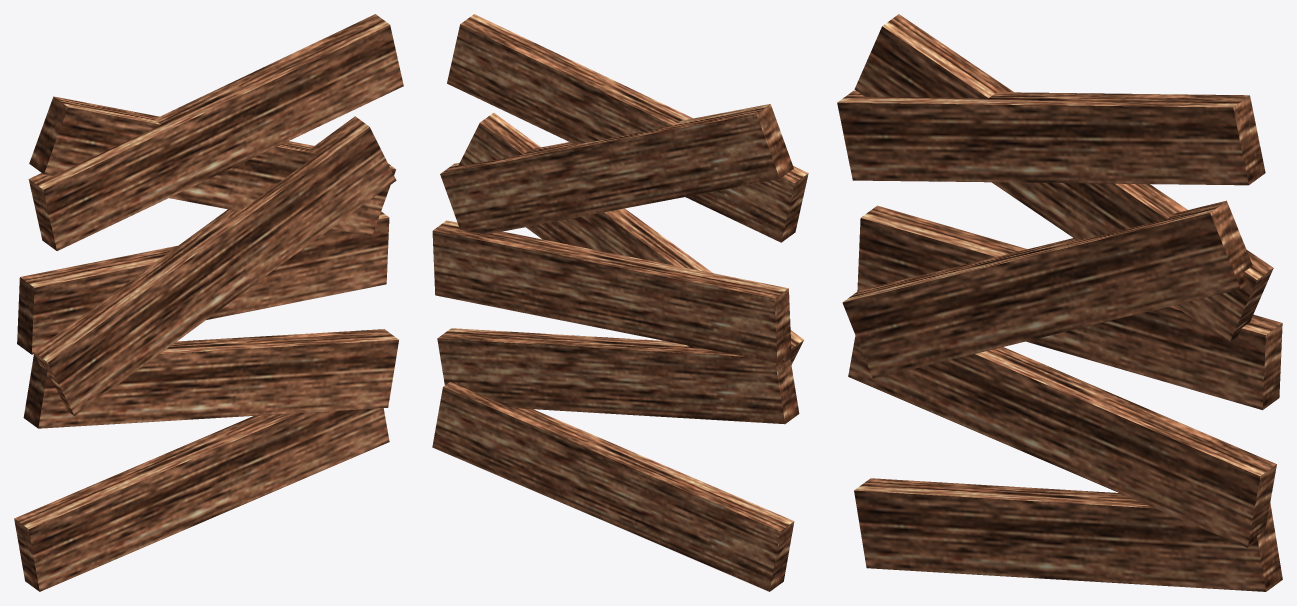
The model's file is Baricades.fbx.
The picture shows the model from 3 angles, left to right: view 1: azimuth 30°, elevation 25°; view 2: azimuth 150°, elevation 25°; view 3: azimuth 330°, elevation 25°; orthographic projection. The views are drawn at different scales.
Visible parts, largest first — view 1: Baricades_Baked; view 2: Baricades_Baked; view 3: Baricades_Baked.
Boxes of the visible parts, x1=… form: Baricades_Baked: x1=14, y1=14, x2=403, y2=591; Baricades_Baked: x1=432, y1=14, x2=808, y2=591; Baricades_Baked: x1=837, y1=14, x2=1282, y2=591.
Bounding box in the file's own units: 1.79 × 0.25 × 2.33.
Materials: 1 (1 with a texture image).
